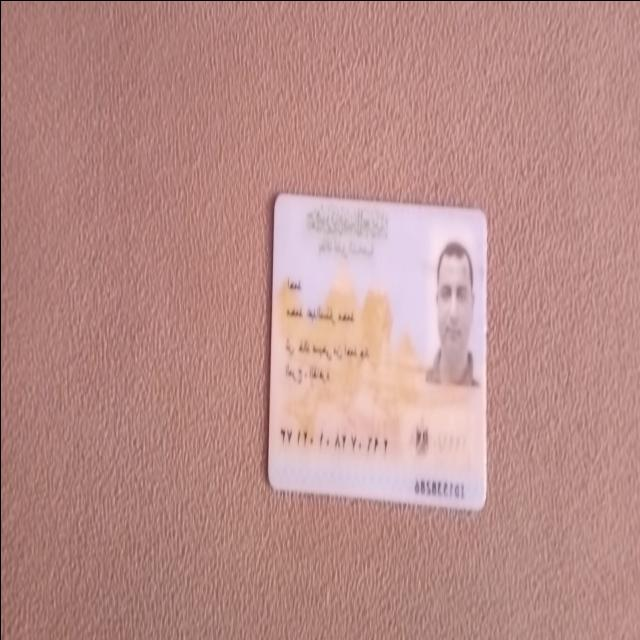id_card: (261, 178, 492, 523)
